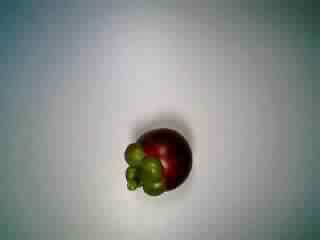mangosteen: (117, 123, 194, 197)
